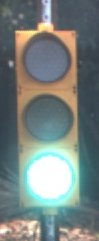Green: (12, 16, 81, 215)
